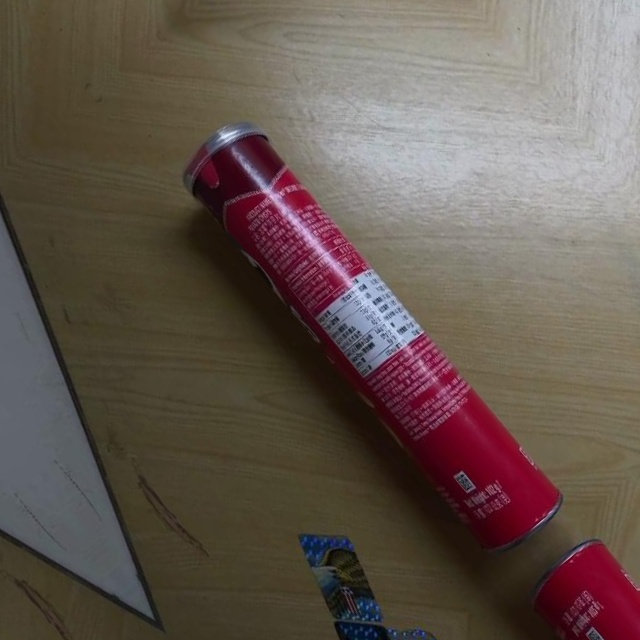Pringles: (171, 110, 574, 564)
